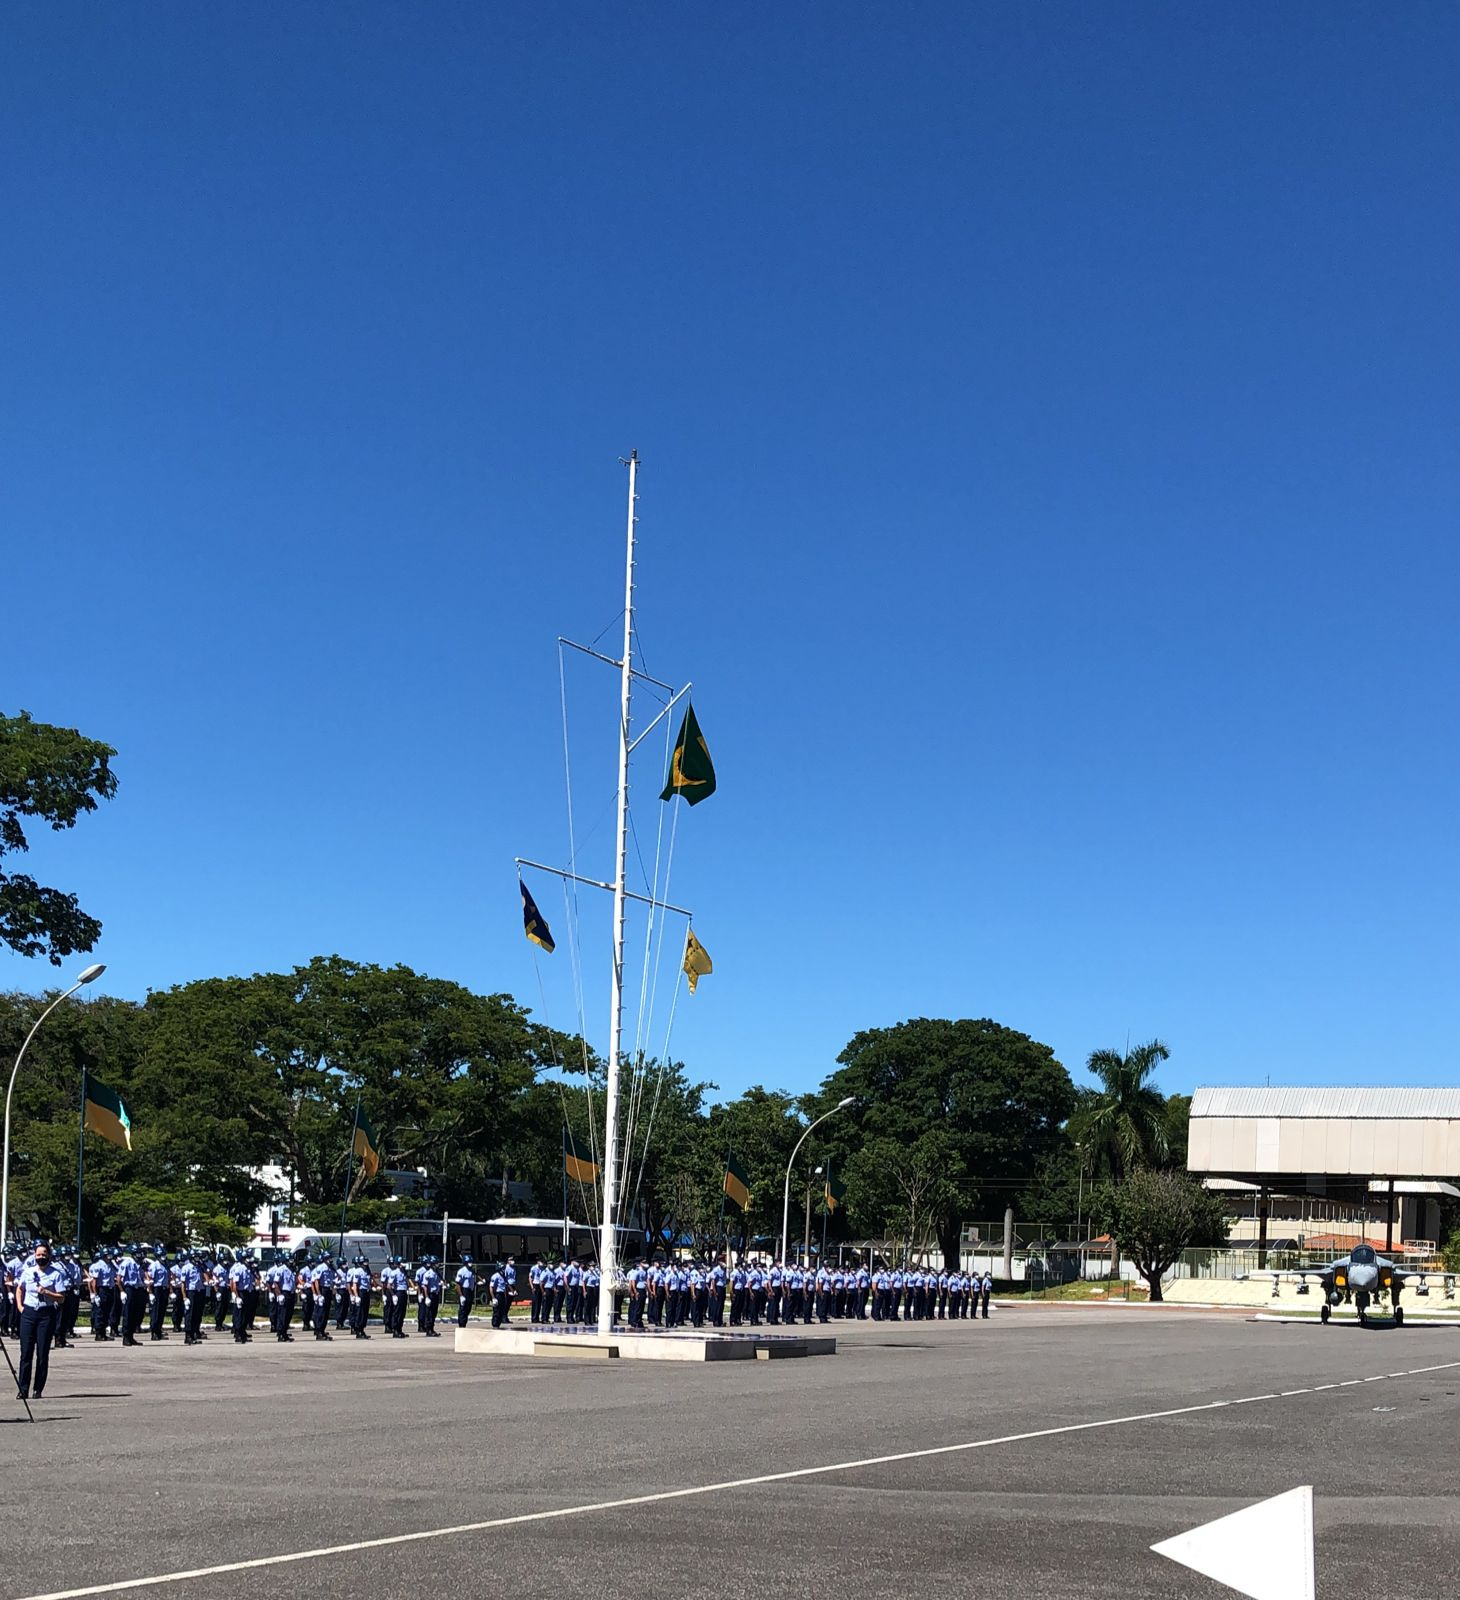JAS39: (1232, 1194, 1460, 1328)
